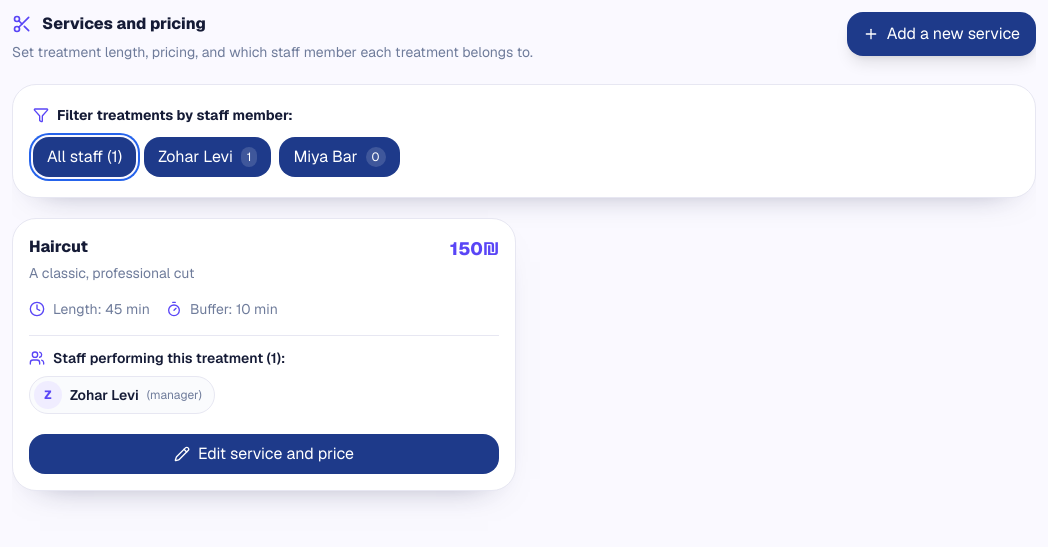
business services screen › distinguishes that from a filter that excluded everything
Click the tab "Miya Bar 0" at (340, 157), box [280,137,400,177]
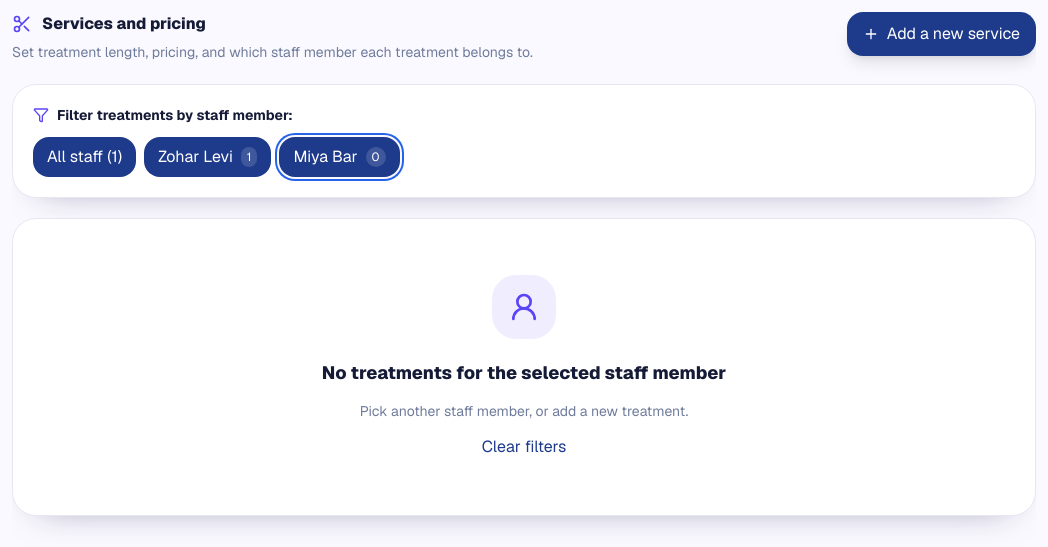
Now the heading "No treatments for the selected staff member" is shown, box [322,359,726,387]
